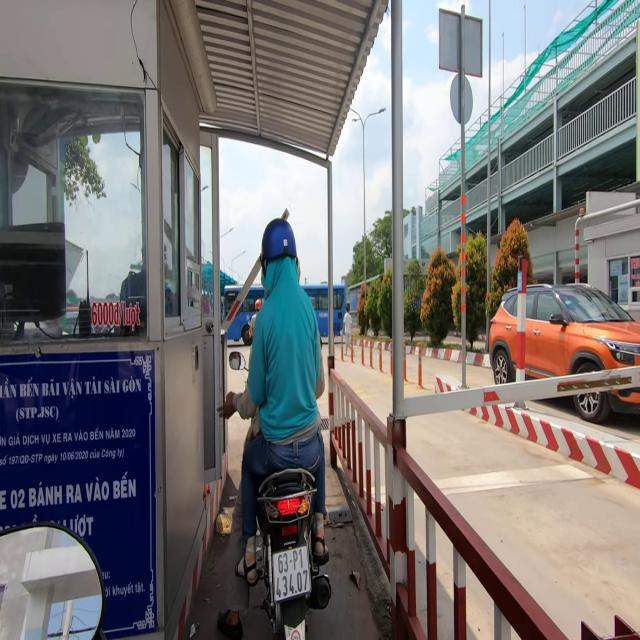bien_trang: (272, 544, 313, 604)
